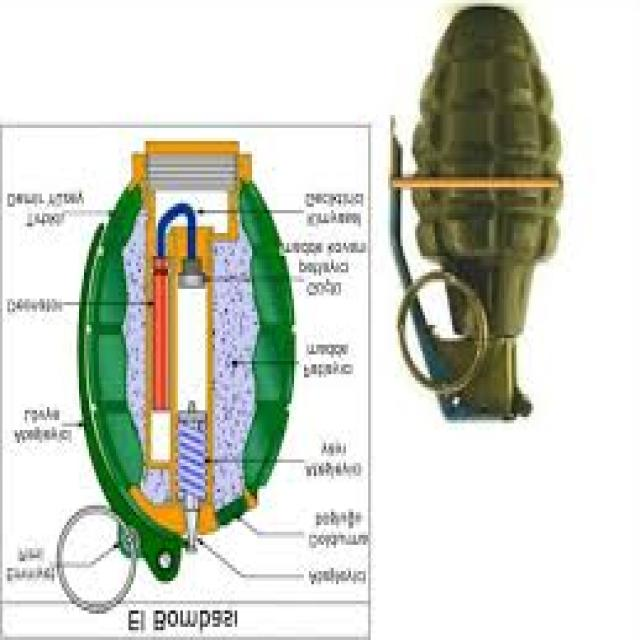grenade: (380, 9, 575, 435)
